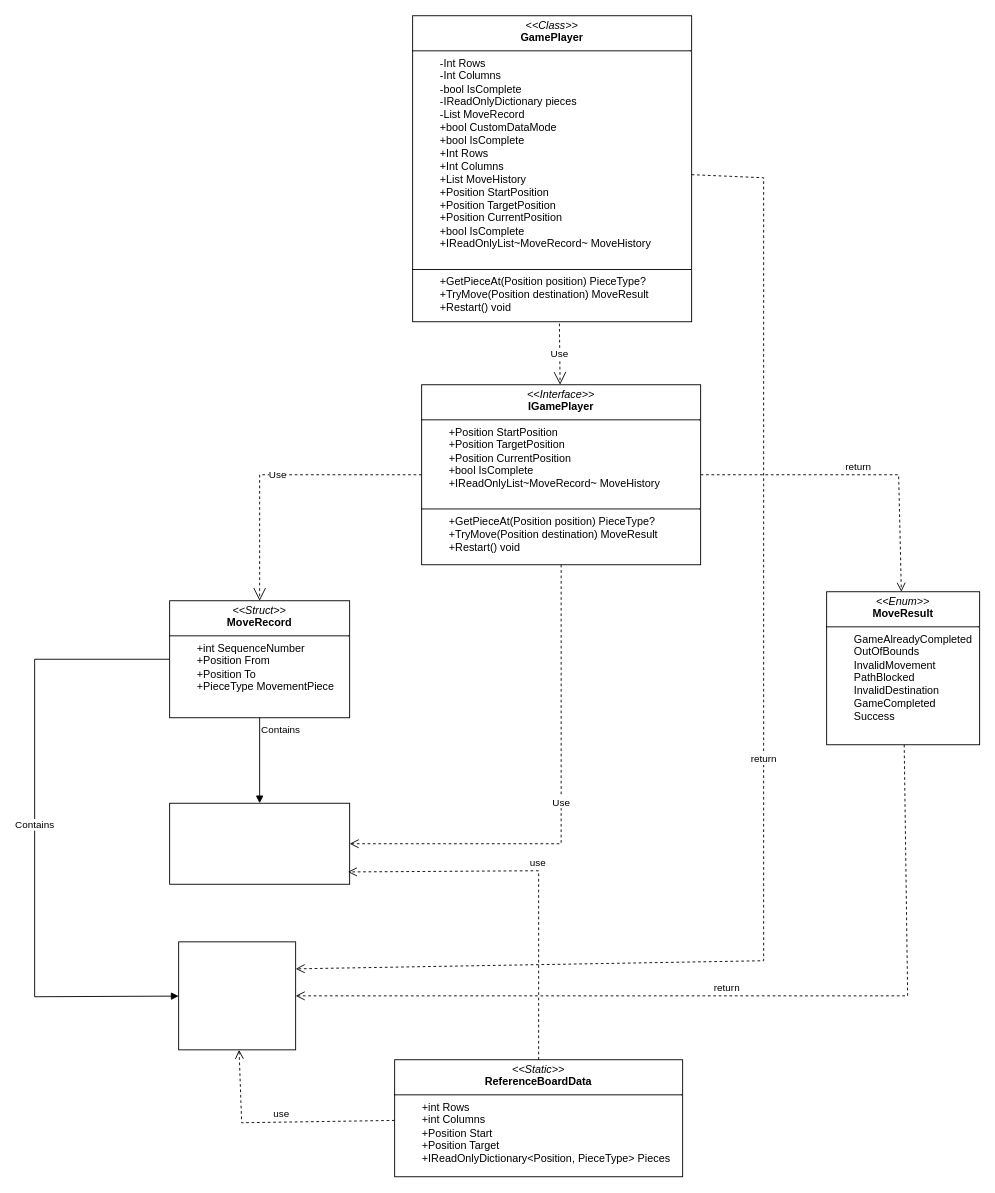
This 995x1193 diagram has some shape labels left out. The shapes that lost their labels are listed below. From the top down, each one's box as (x1, y1, x2, y2) in pixels, then its label:
(169, 802, 350, 884): <<Struct>> Position +int Row +int Column
(178, 941, 296, 1050): <<Enum>> PieceType Rook Bishop Knight King
